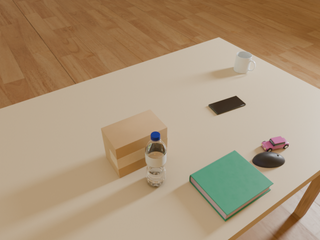book: (189, 150, 273, 221)
bottle: (145, 131, 167, 186)
box: (101, 110, 167, 178)
cup: (234, 51, 256, 74)
mouse: (252, 151, 285, 168)
phone: (209, 96, 246, 115)
toy_car: (261, 136, 289, 152)
